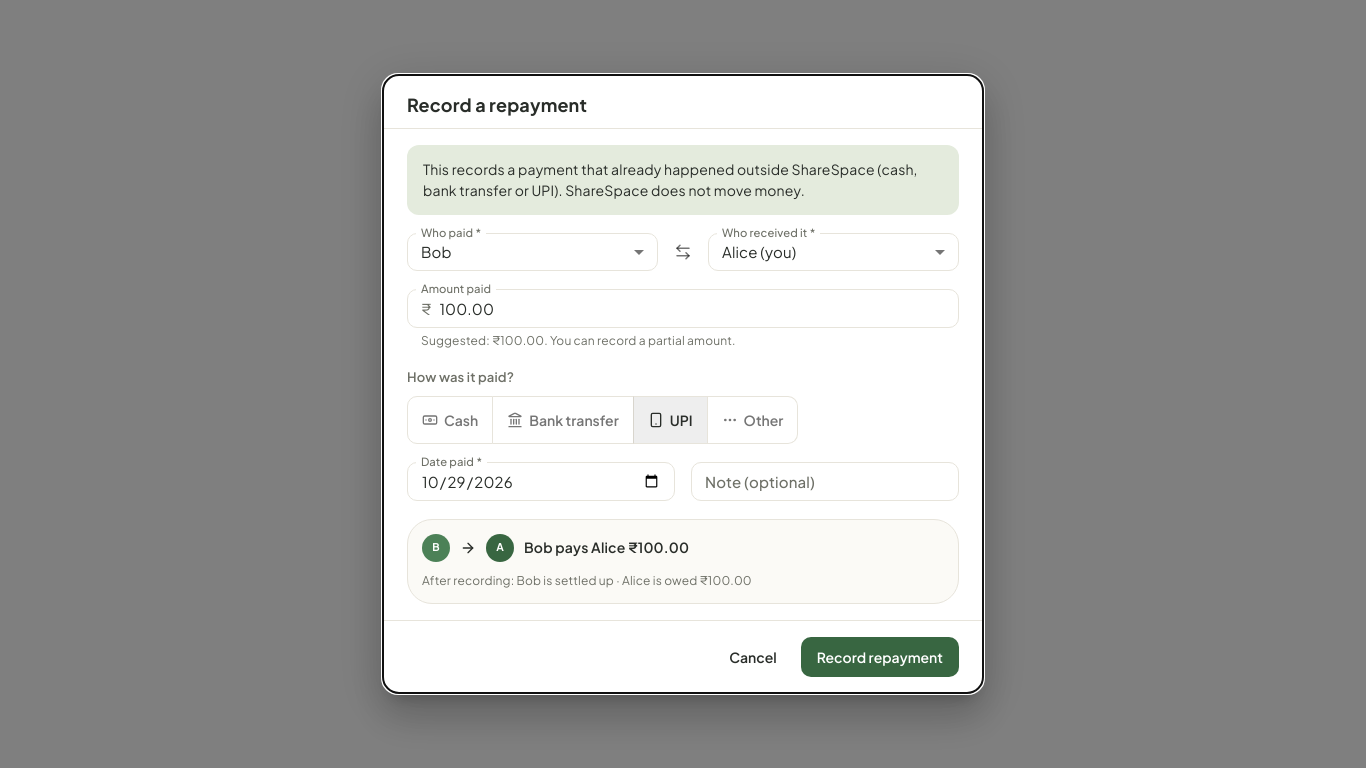
Test case: settlement confirmation › warns before recording more than the payer owes
Clear the field labelled "Amount paid". click: (699, 309)
box: [439,289,959,328]
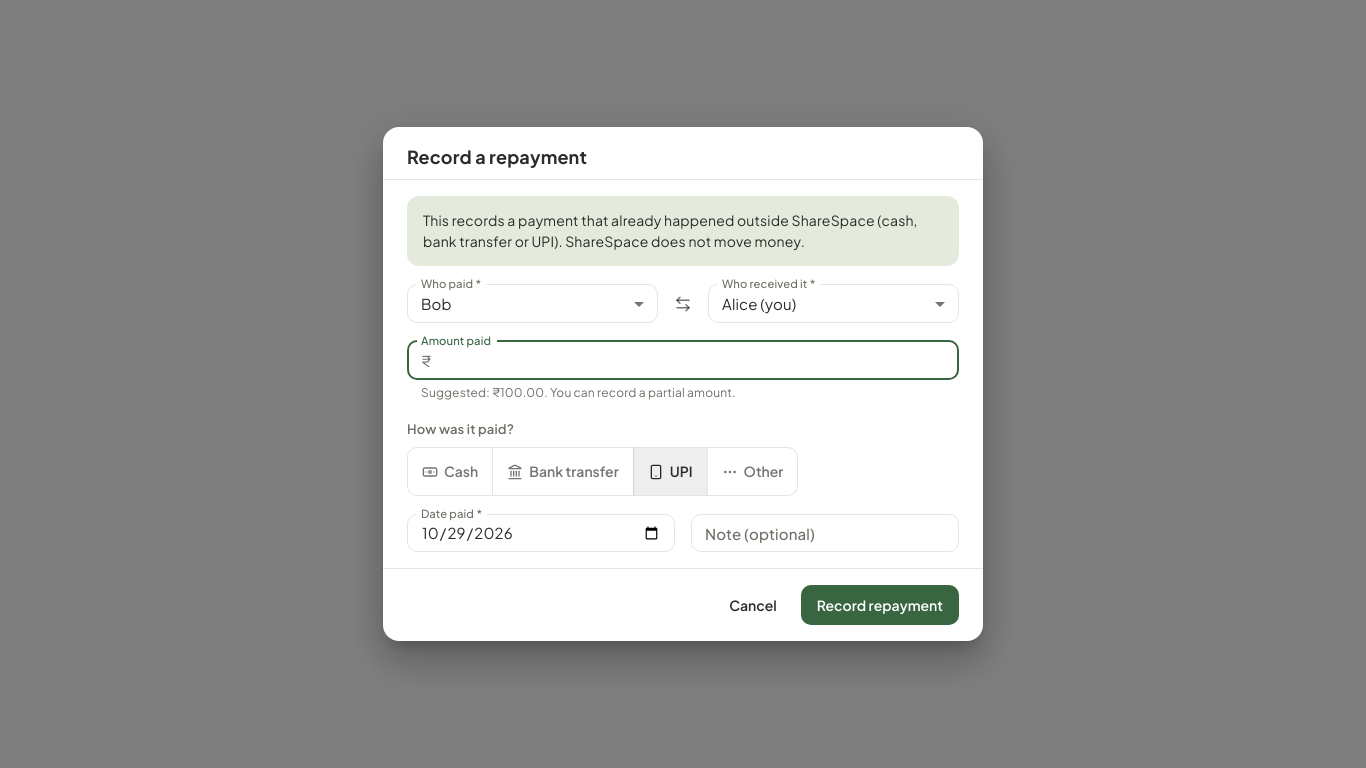
Type "150" into the field labelled "Amount paid". click: (699, 360)
box: [439,341,959,380]
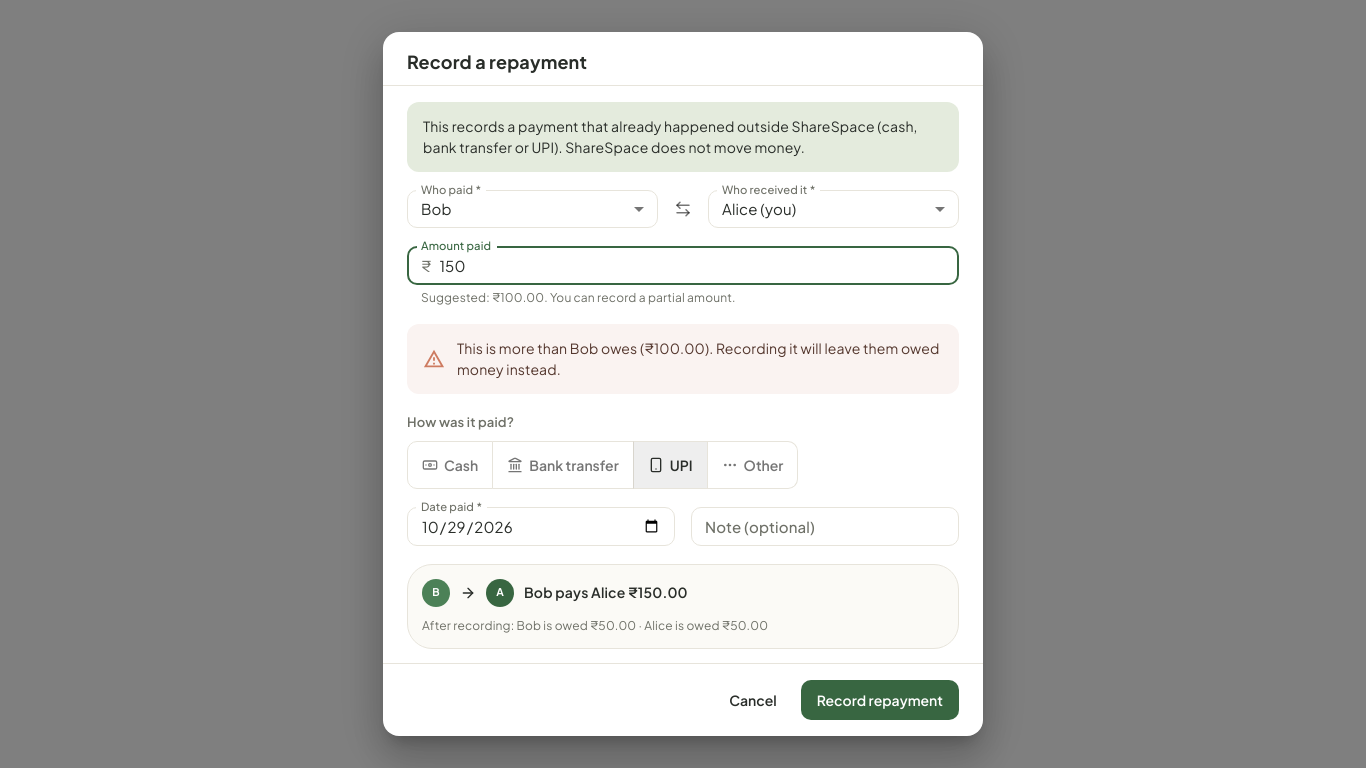
Expected: the text "more than Bob owes" is shown, [457,330,943,388]
